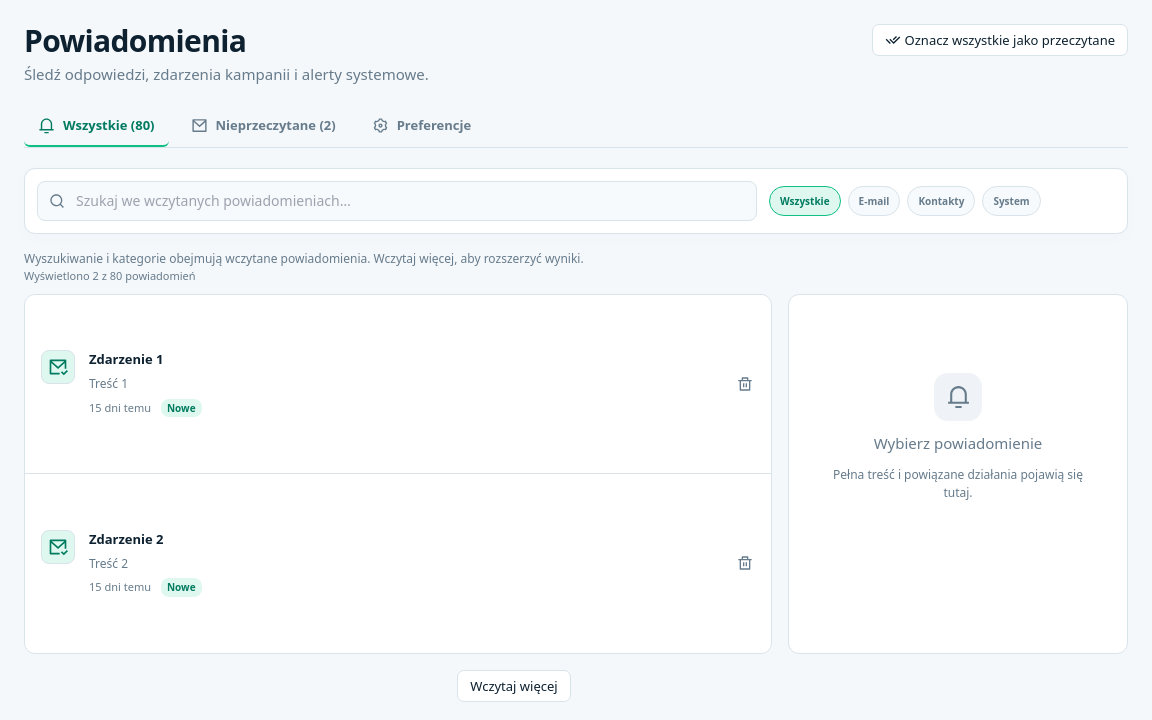
Test: notification workspace › selects without marking read and serializes the explicit read action, refilling unread from offset zero
Click the tab "Nieprzeczytane (2)": (263,126) [176,105,350,147]
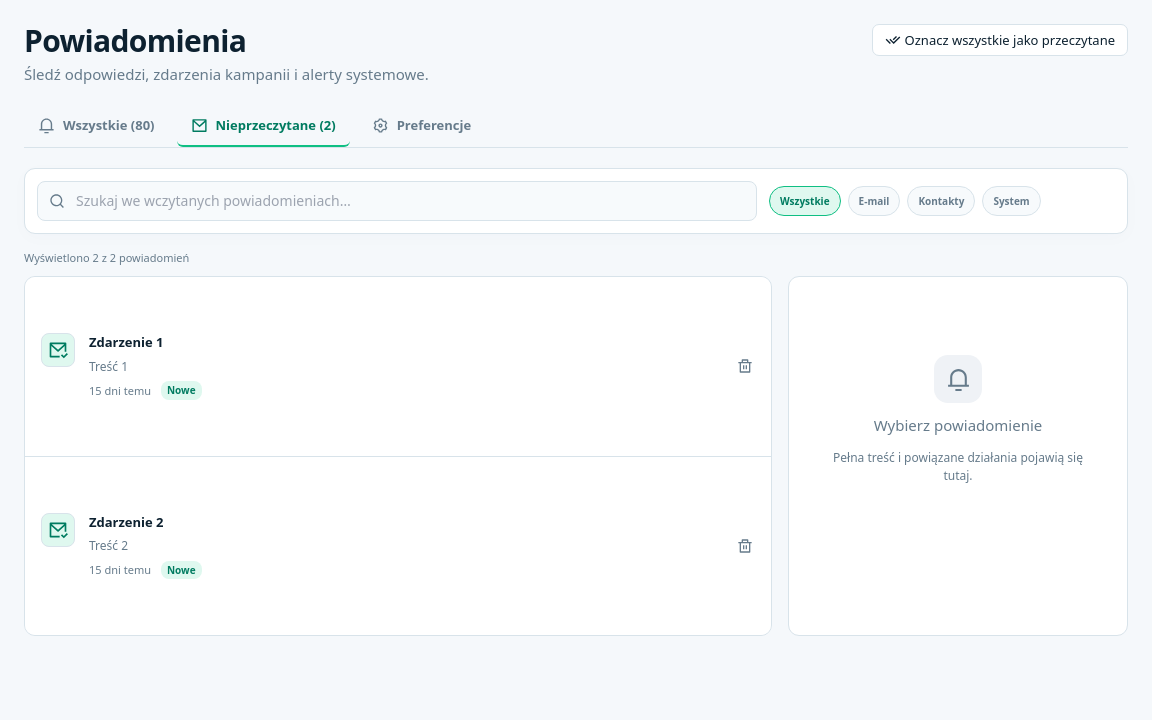
Click the button "Zdarzenie 1 Treść 1 15 dni temu Nowe": (58,350) [25,315,727,418]
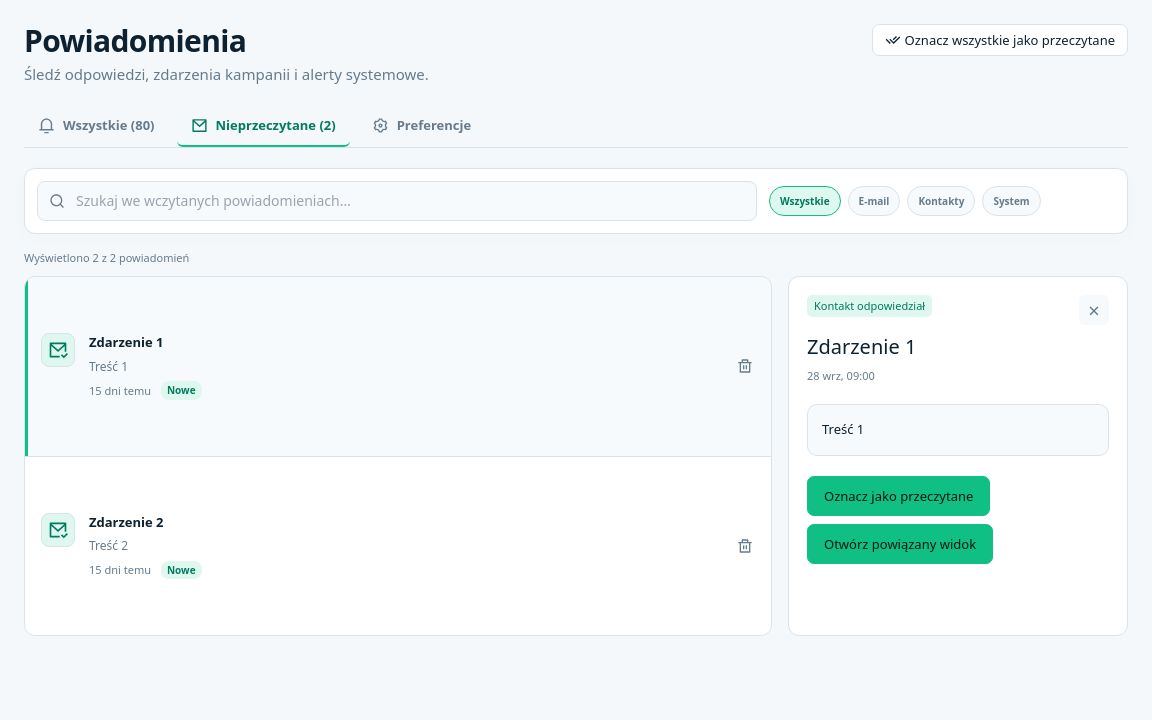
Click the button "Oznacz jako przeczytane": (899,496) [807,476,990,516]
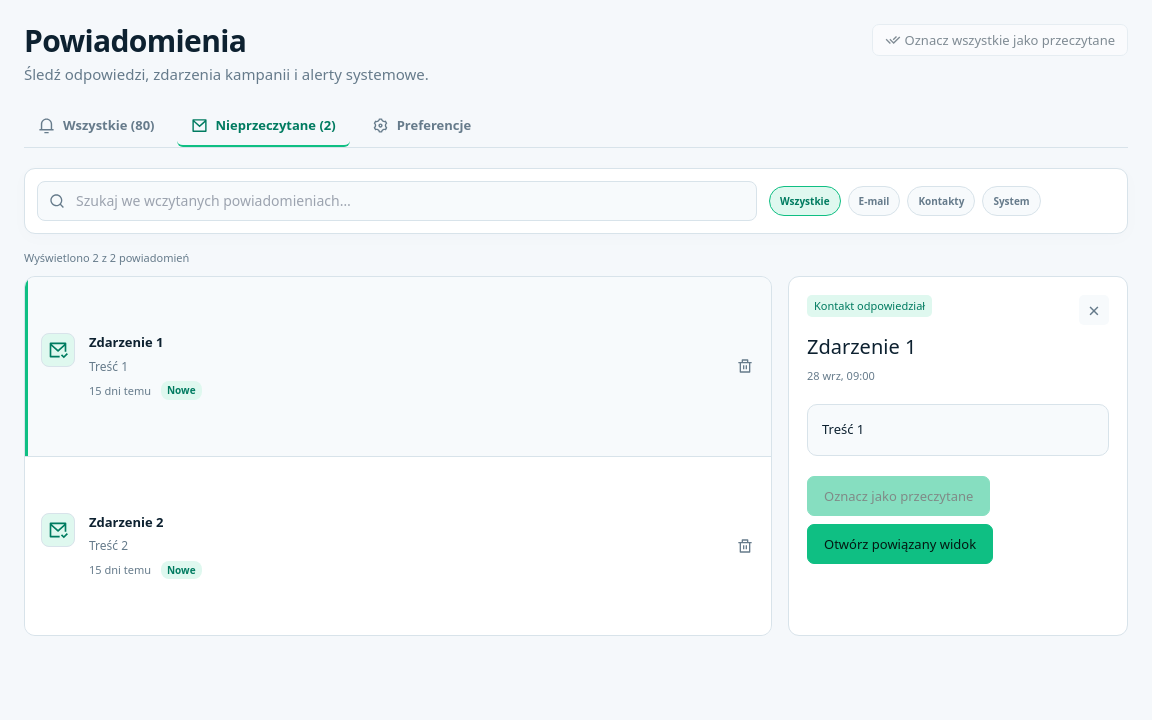
Click the button "Oznacz jako przeczytane": (899,496) [807,476,990,516]
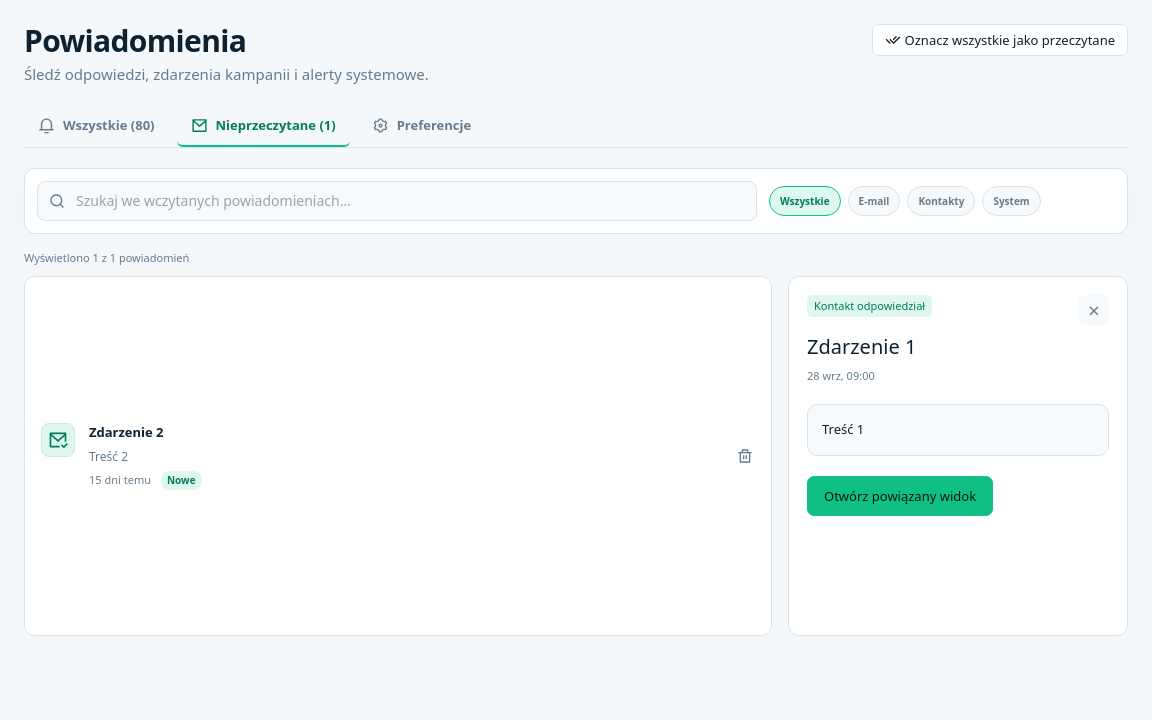
Expected: the heading "Zdarzenie 1" is shown, [807,334,916,360]
Now the tab "Nieprzeczytane (1)" is shown, box [176,105,350,147]
